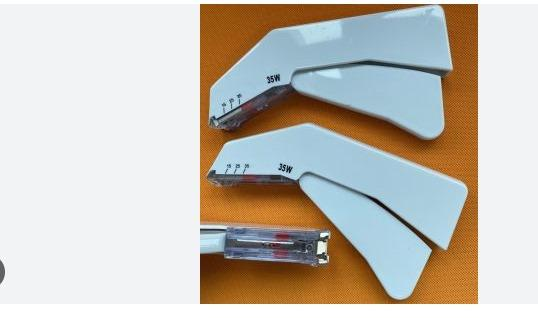Skin Stapler: (207, 123, 472, 300), (208, 4, 452, 140)
